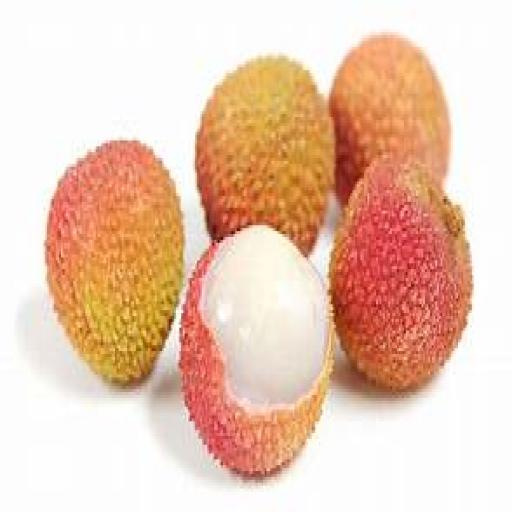lychee: (180, 226, 334, 473)
